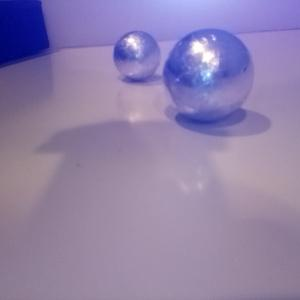alive_ball: (163, 29, 254, 121), (113, 30, 162, 82)
